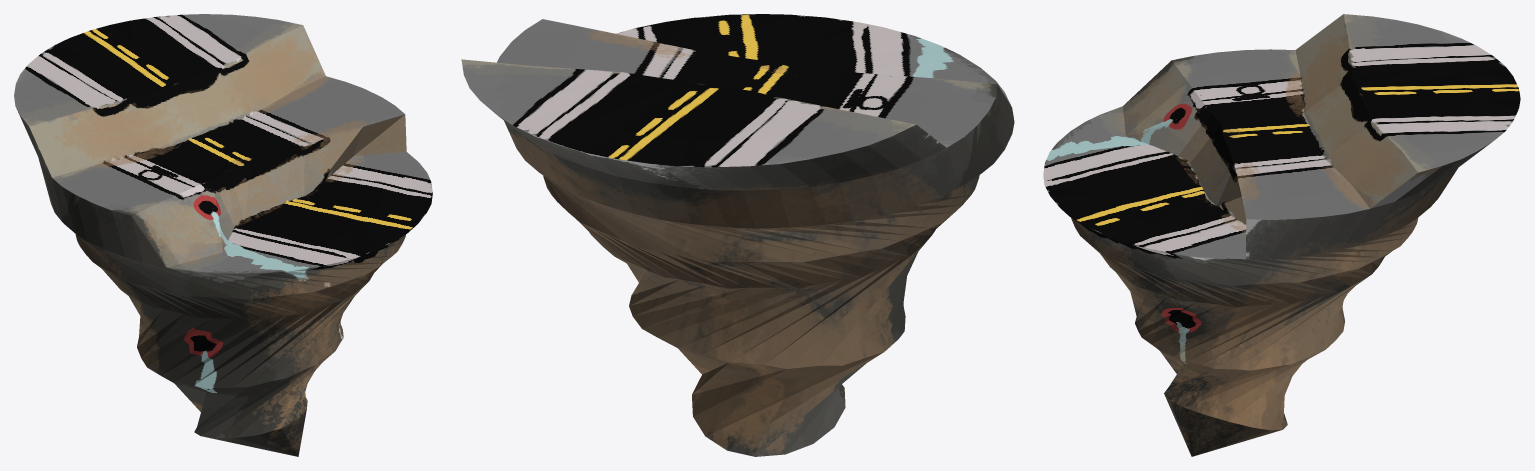
File: island_steps.obj
The picture shows the model from 3 angles, left to right: view 1: azimuth 30°, elevation 25°; view 2: azimuth 150°, elevation 25°; view 3: azimuth 270°, elevation 25°; orthographic projection. The views are drawn at different scales.
Visible parts, largest first — view 1: FloatingIslandStairs; view 2: FloatingIslandStairs; view 3: FloatingIslandStairs.
Part boxes in pixels (<box>): FloatingIslandStairs: <box>14,14,432,456</box>; FloatingIslandStairs: <box>461,14,1014,456</box>; FloatingIslandStairs: <box>1043,14,1520,456</box>.
Size of the model in its own units: 3.21 by 3 by 3.8.
Materials: 1 (1 with a texture image).
